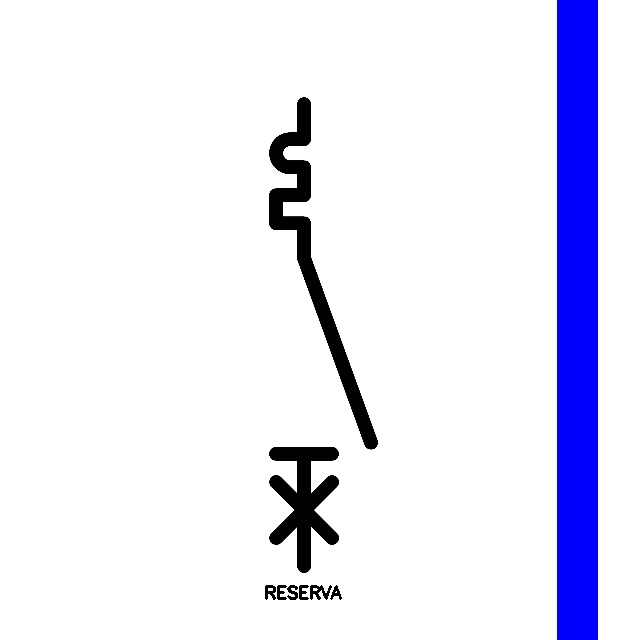interruptor_termomagnetico: (264, 92, 383, 578)
